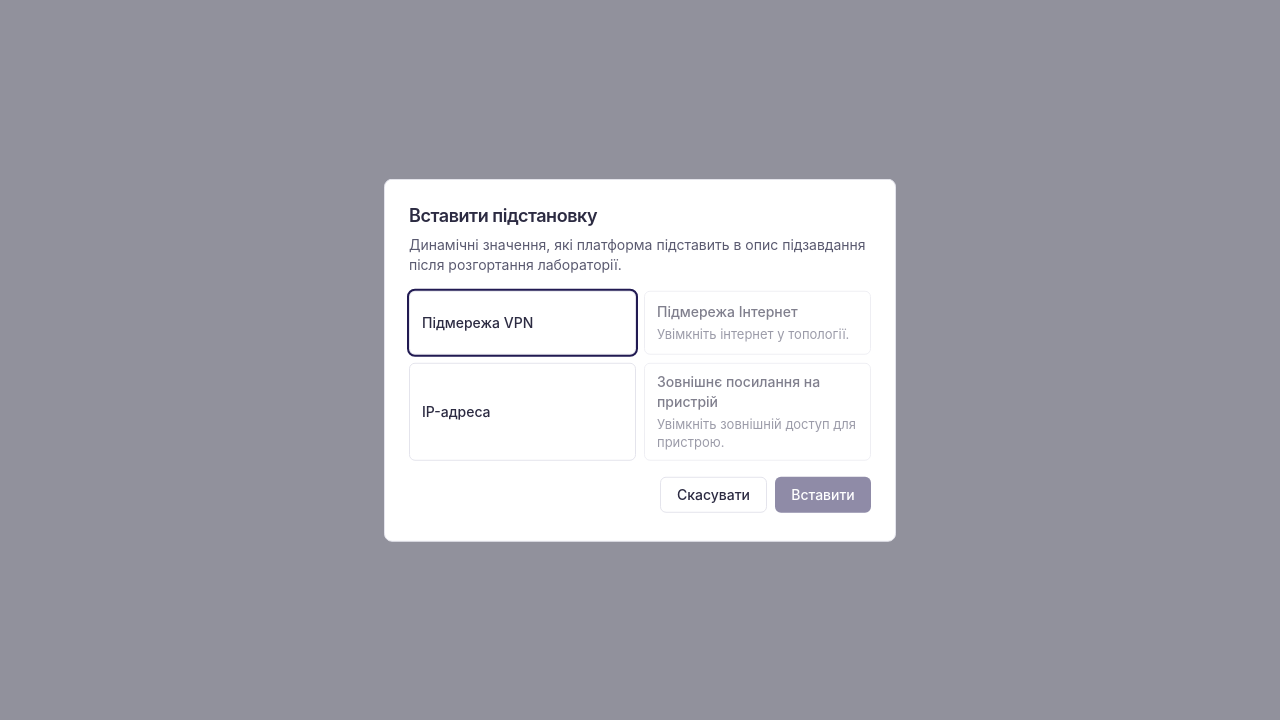
Test case: PlaceholderDialog › IP link form › blocks saving an invalid port or path with an inline message
The image size is (1280, 720).
Click the button "IP-адреса".
click(522, 411)  # box [409,362,636,460]
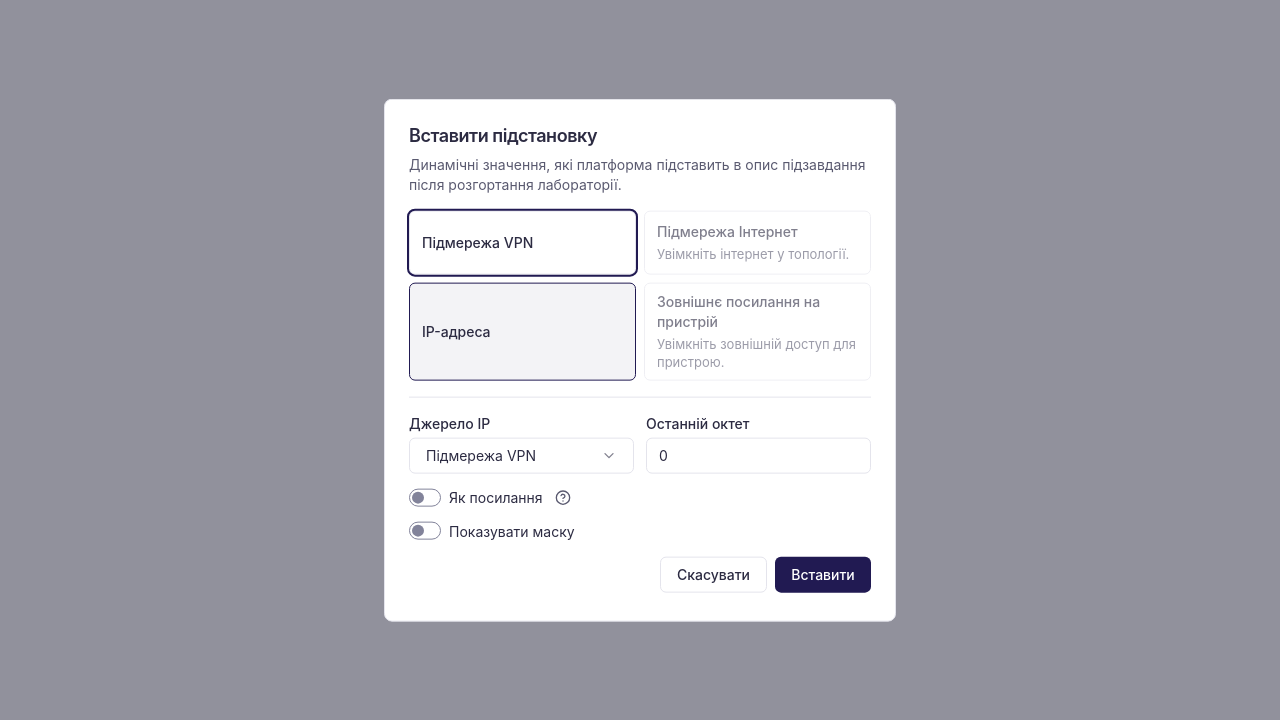
Click the switch named "Як посилання" next to "Як посилання".
click(425, 497)  # box [409,488,441,506]
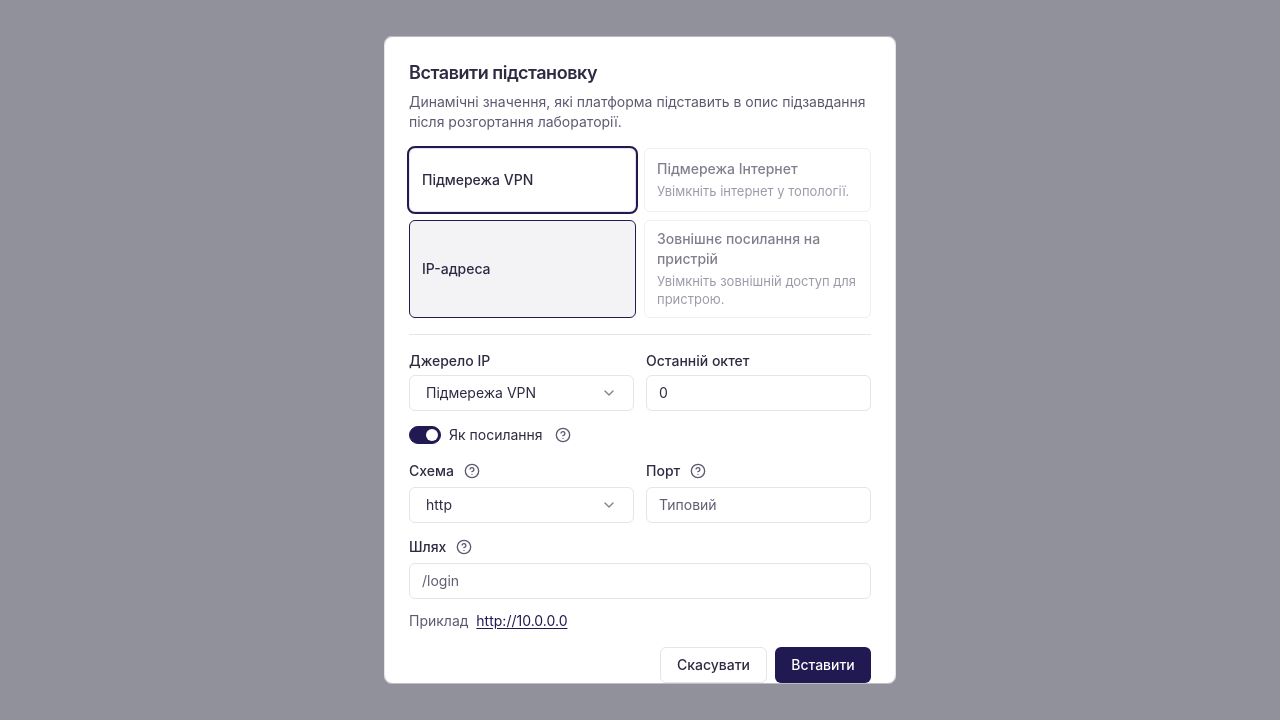
Type "70000" into the field labelled "Порт".
click(758, 504); type("70000")  # box [646,486,871,522]
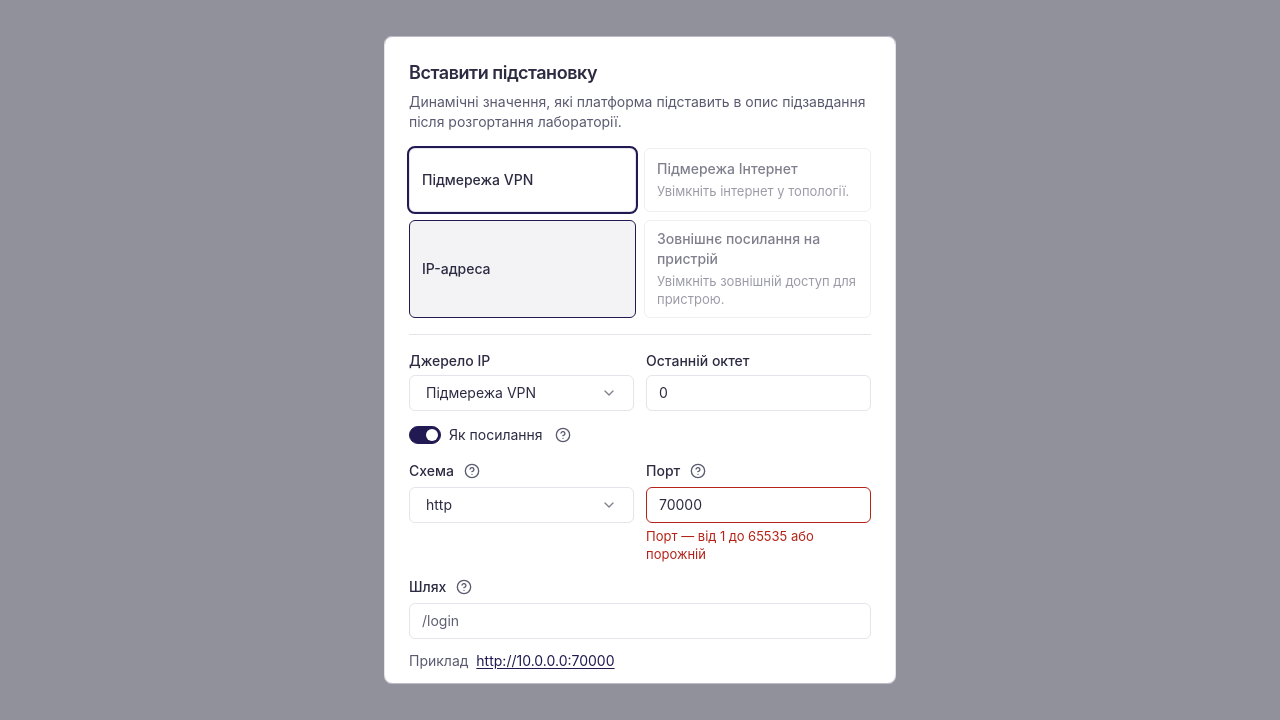
Check: the text "Порт — від 1 до 65535 або порожній" is shown, box [646,528,814,562]
Clear the field labelled "Порт" at (758, 504), box [646,486,871,522]
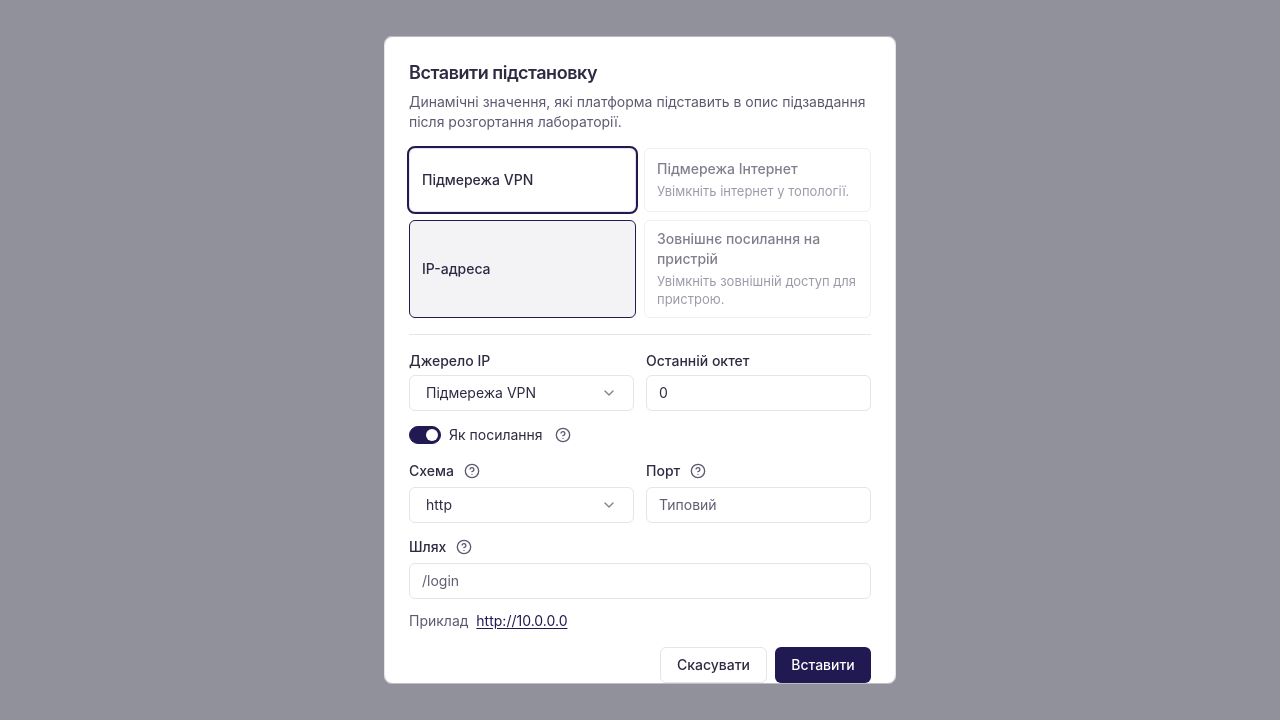
Type "admin" into the field labelled "Шлях".
click(640, 580); type("admin")  # box [409,562,871,598]
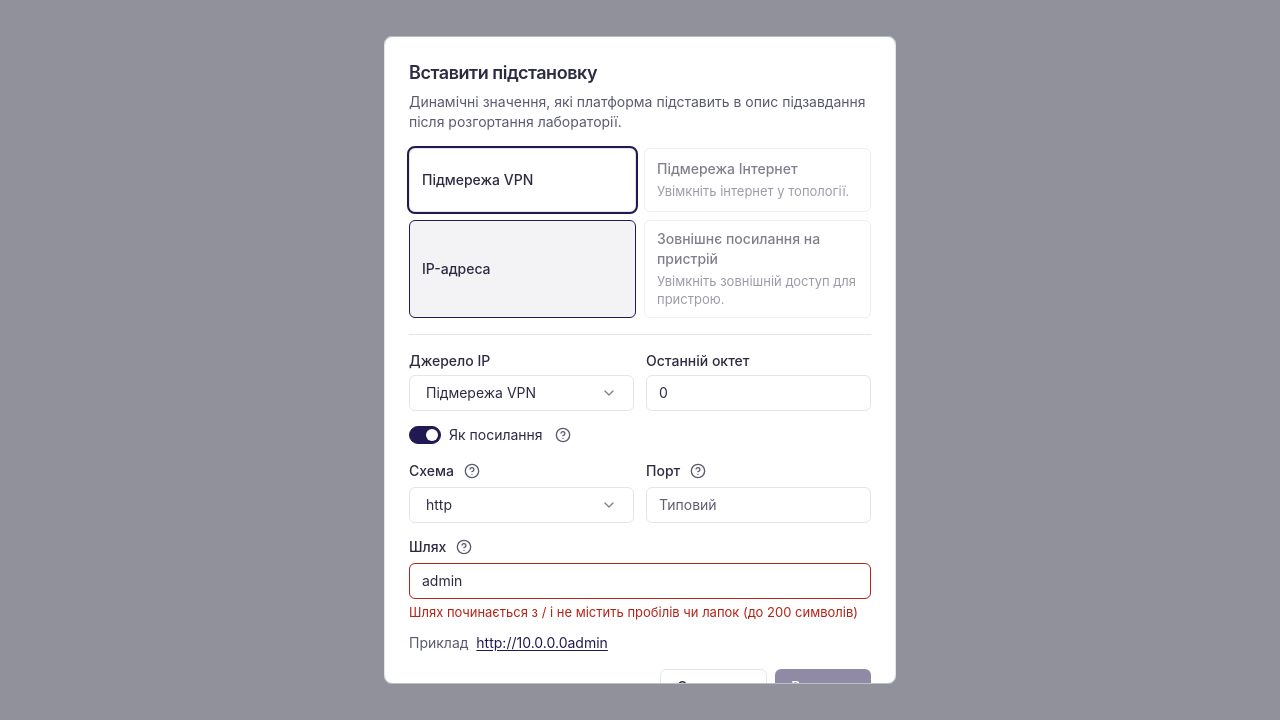
Check: the text "Шлях починається з /" is shown, box [409,604,858,620]
Replace the text in the field labelled "Шлях" with "/ok" at (640, 580), box [409,562,871,598]
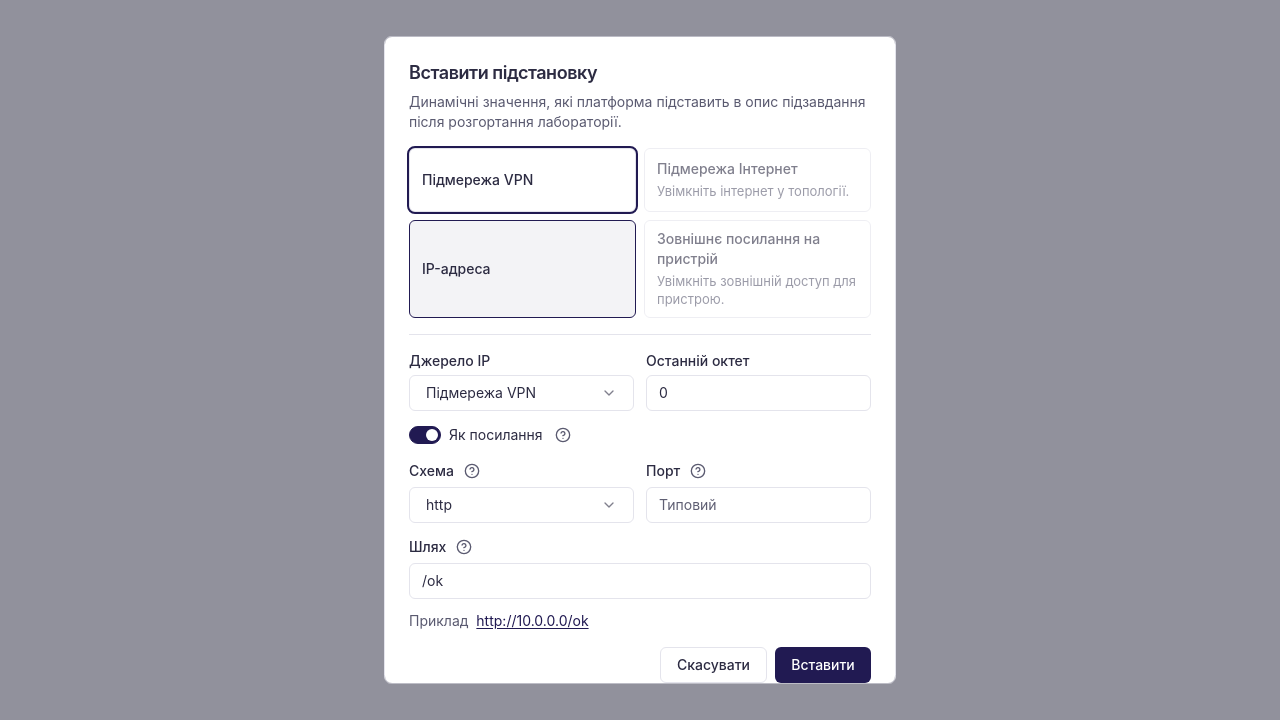
Check: the button "Вставити" is enabled, box [775,646,871,682]
